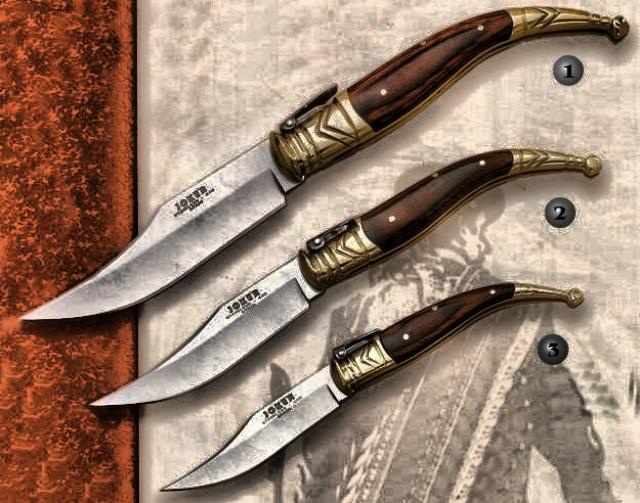knife: (11, 151, 278, 323), (84, 277, 298, 411), (158, 406, 334, 496)
